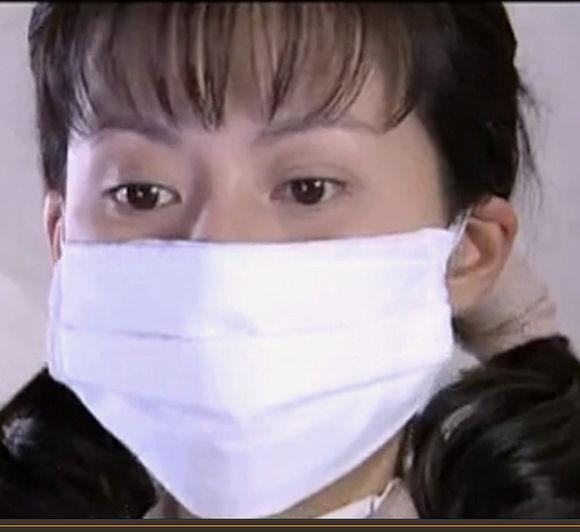OK: (58, 94, 451, 512)
